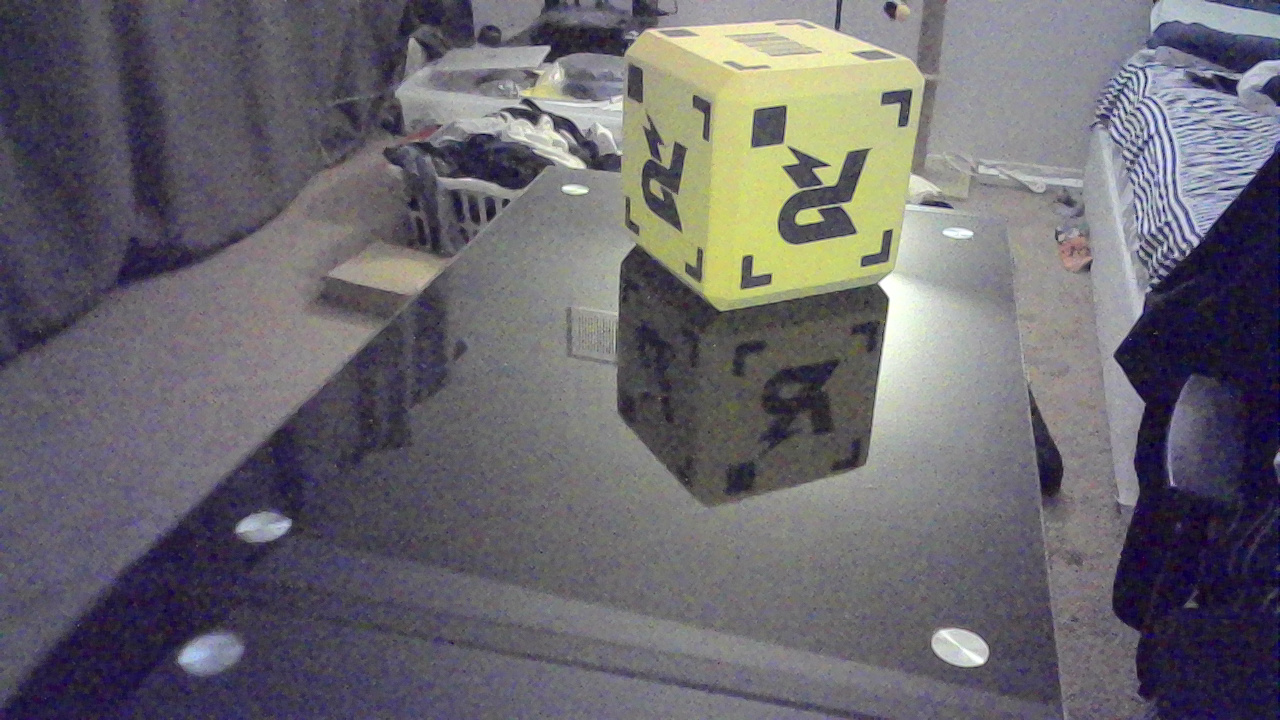Barcode: (736, 34, 829, 61)
R: (776, 147, 882, 253), (647, 126, 690, 239)
